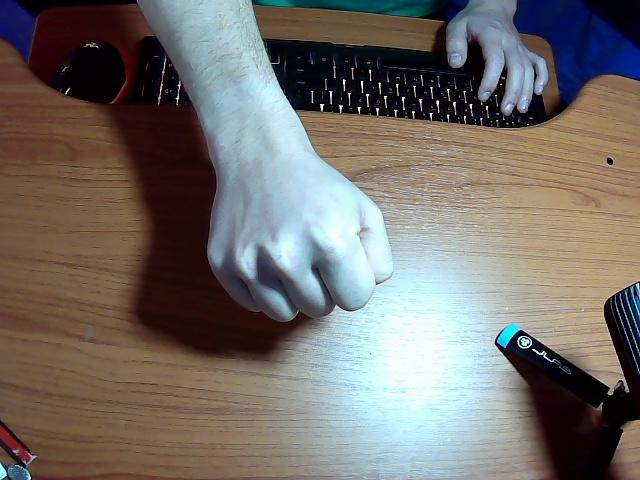rock: (141, 1, 392, 321)
